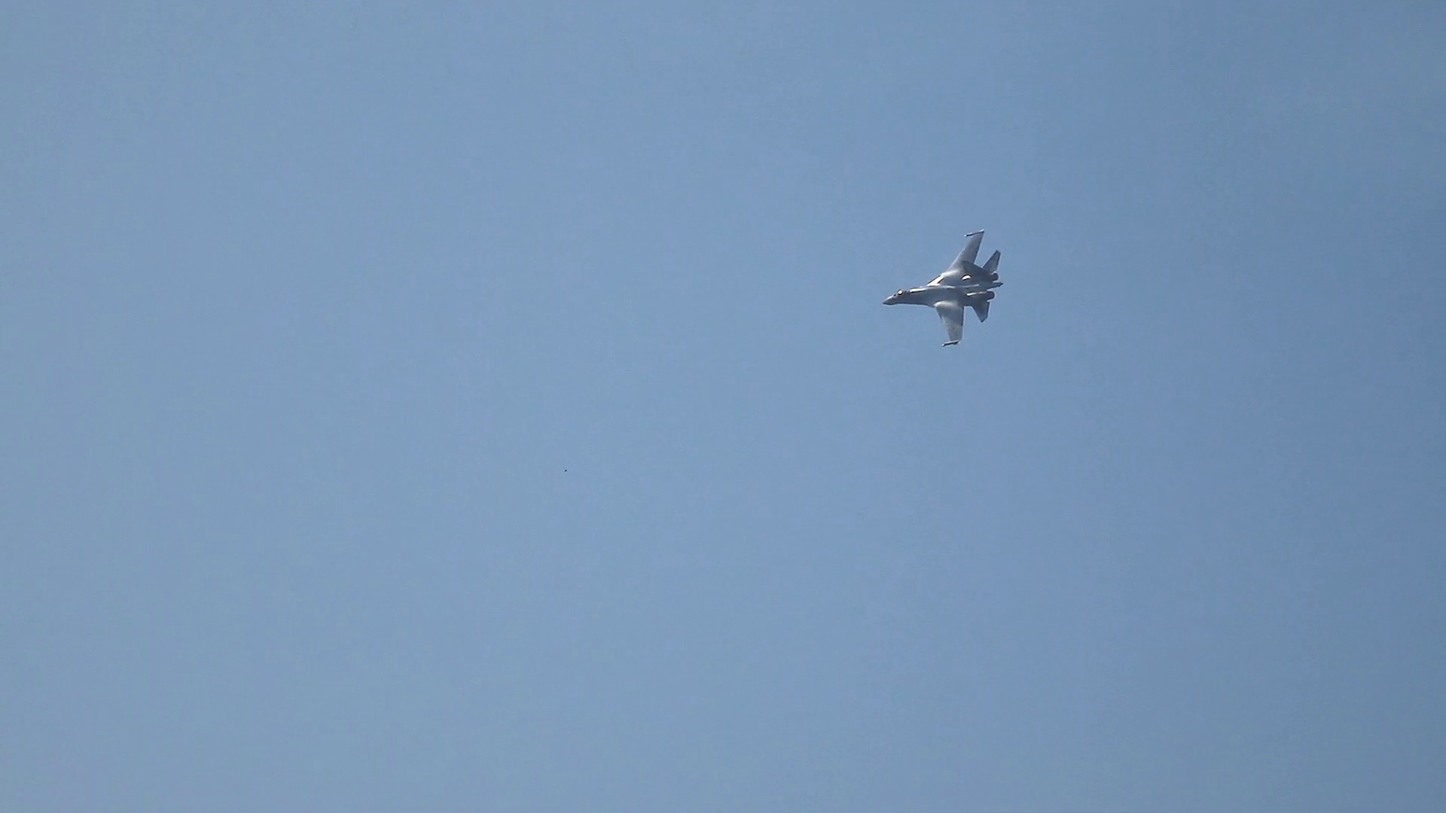Su35: (882, 229, 1003, 348)
